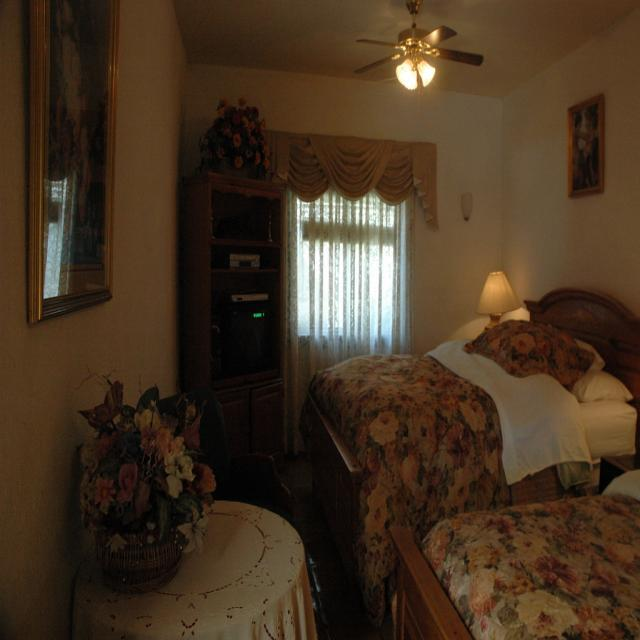fan_off: (357, 0, 487, 83)
